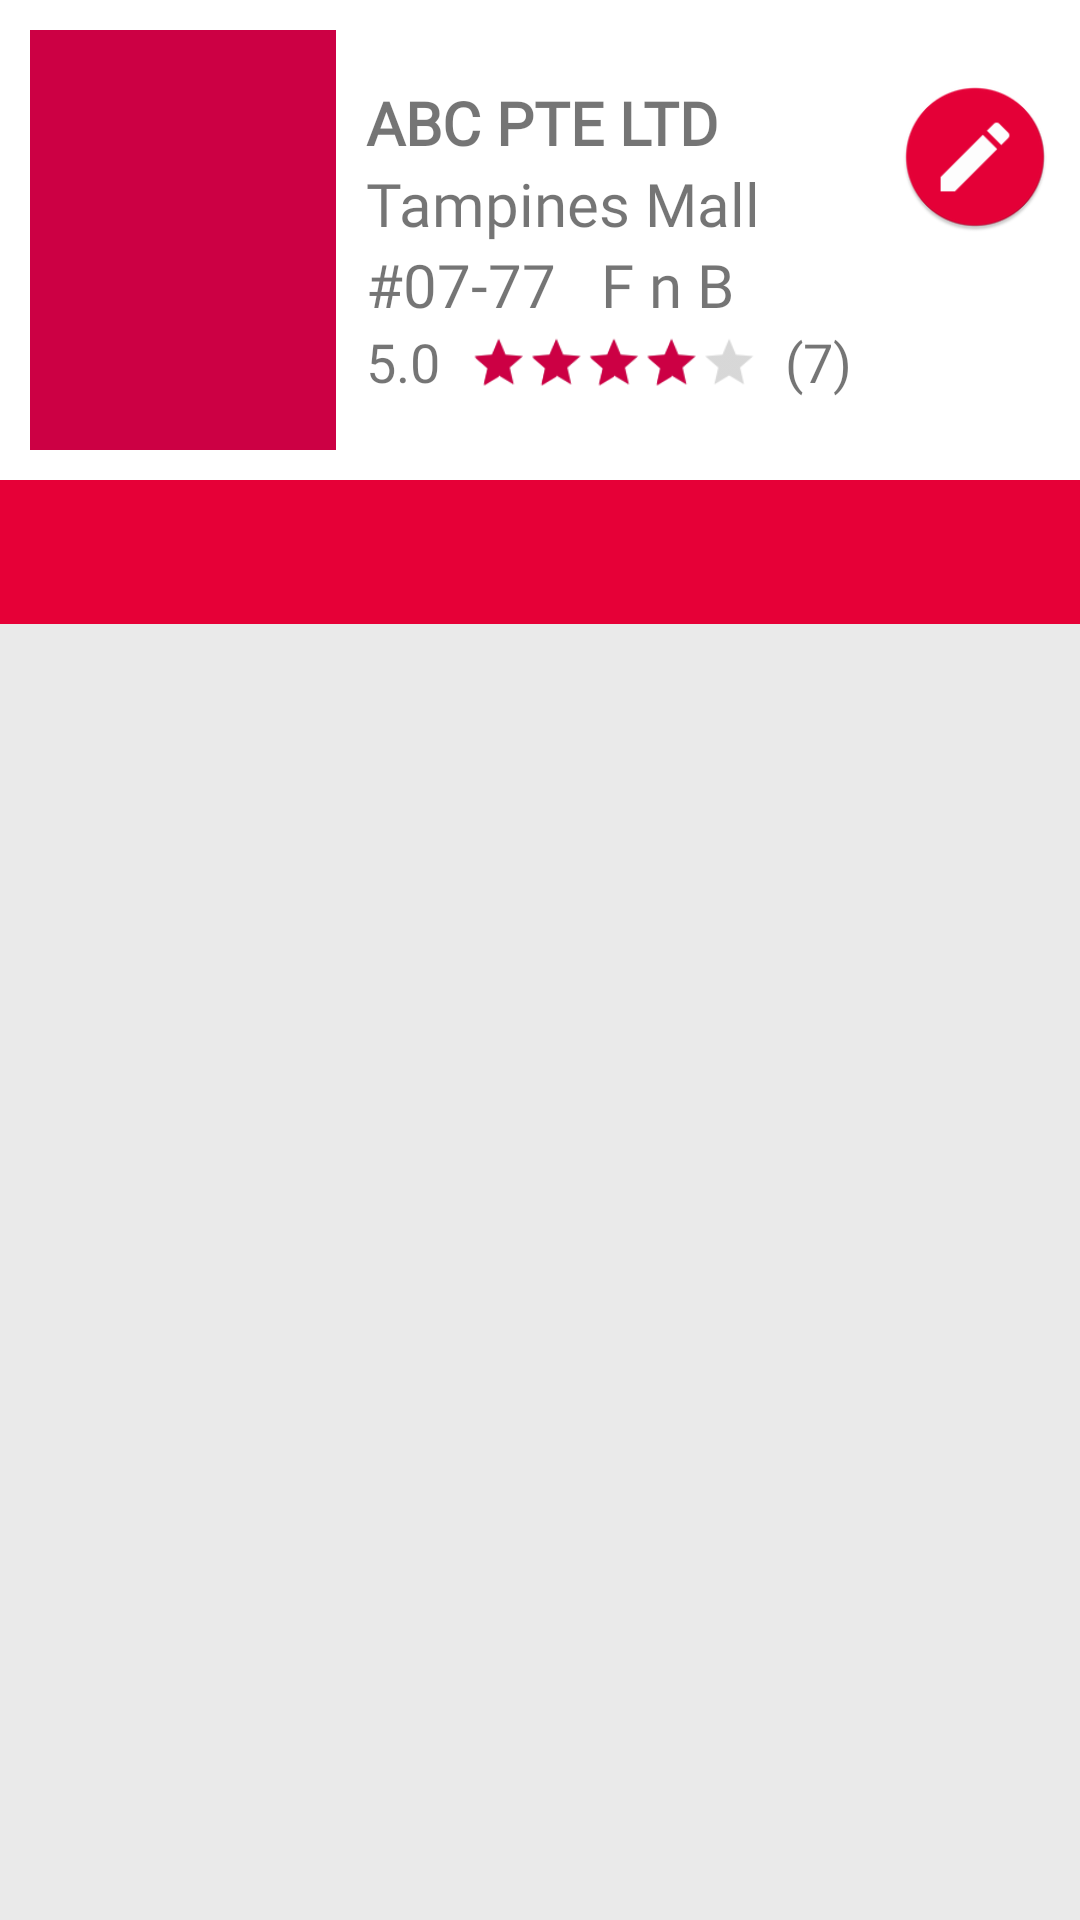

Named icons in this screenshot (1080px x 1920px) and their centers, [x,y]:
edit circle: [975,158]
